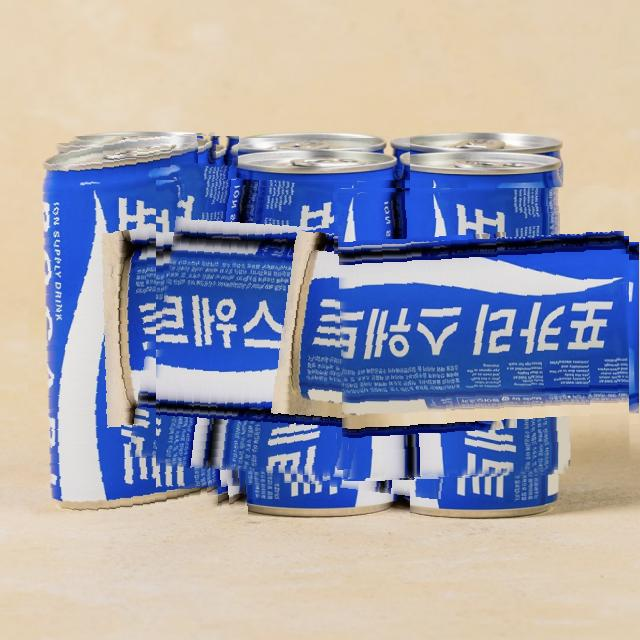recyclable: (156, 180, 468, 491), (337, 188, 629, 479), (28, 136, 240, 530)
